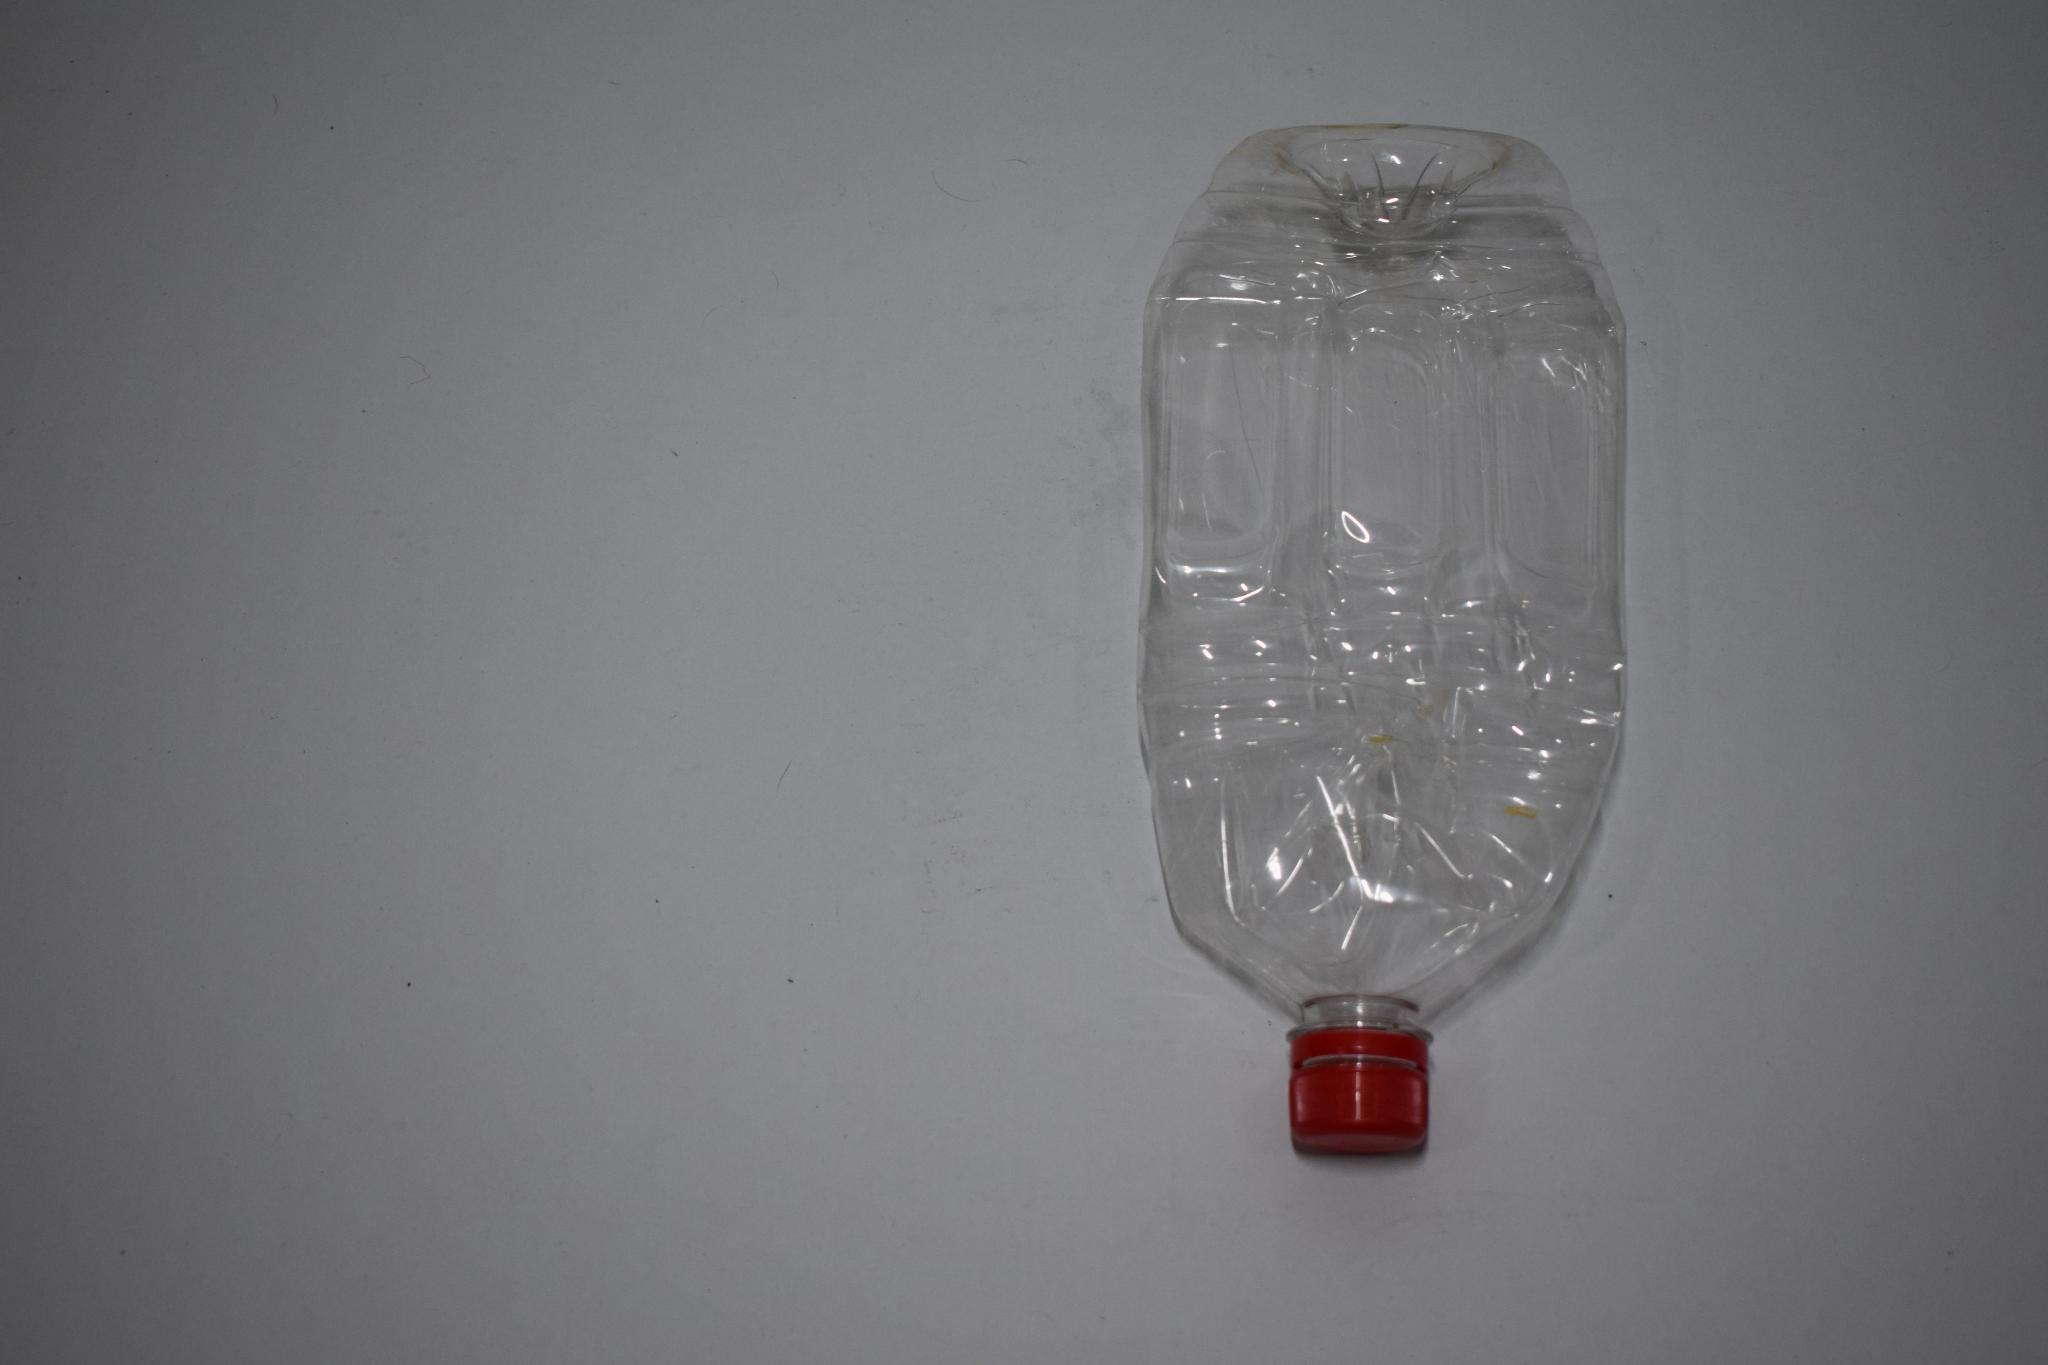bottle: (1120, 116, 1628, 1168)
